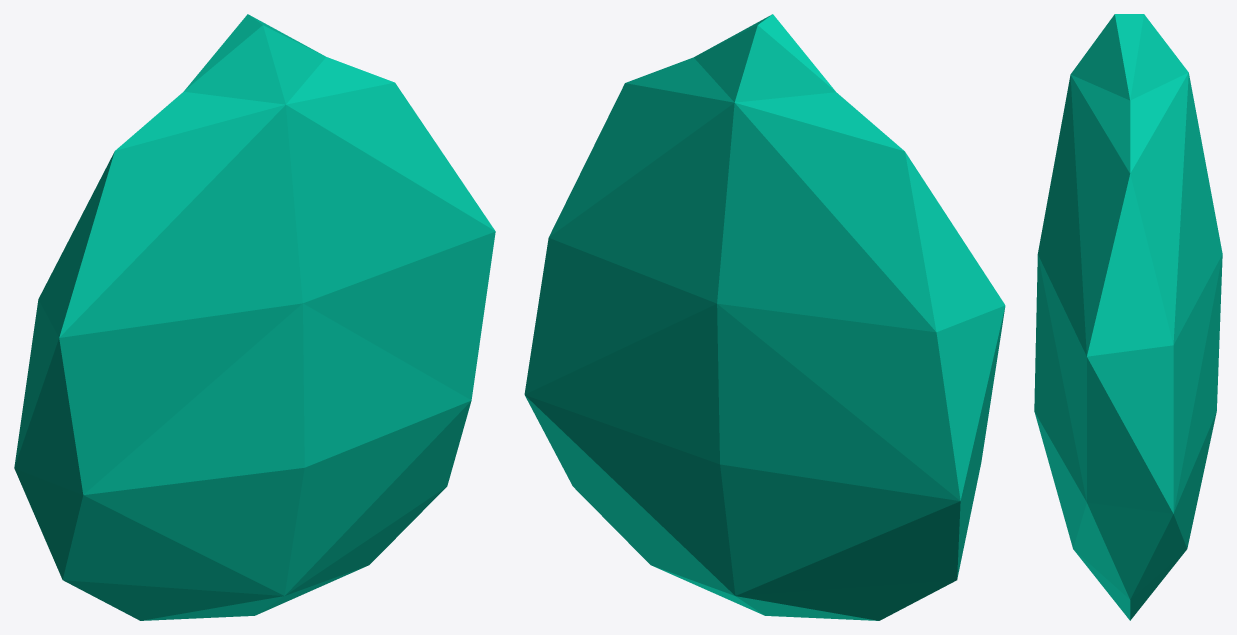
The model's file is Flower_Seed_2.fbx.
3 views of the same model, side by side, from view 1: azimuth 30°, elevation 25°; view 2: azimuth 150°, elevation 25°; view 3: azimuth 270°, elevation 25° (orthographic). The views are drawn at different scales.
Visible parts, largest first — view 1: Seed_2; view 2: Seed_2; view 3: Seed_2.
Part boxes in pixels (x1,y1,x2,y2): Seed_2: [14, 14, 495, 620]; Seed_2: [524, 14, 1005, 620]; Seed_2: [1034, 14, 1222, 620].
Size of the model in its own units: 7.66 by 10 by 2.97.
